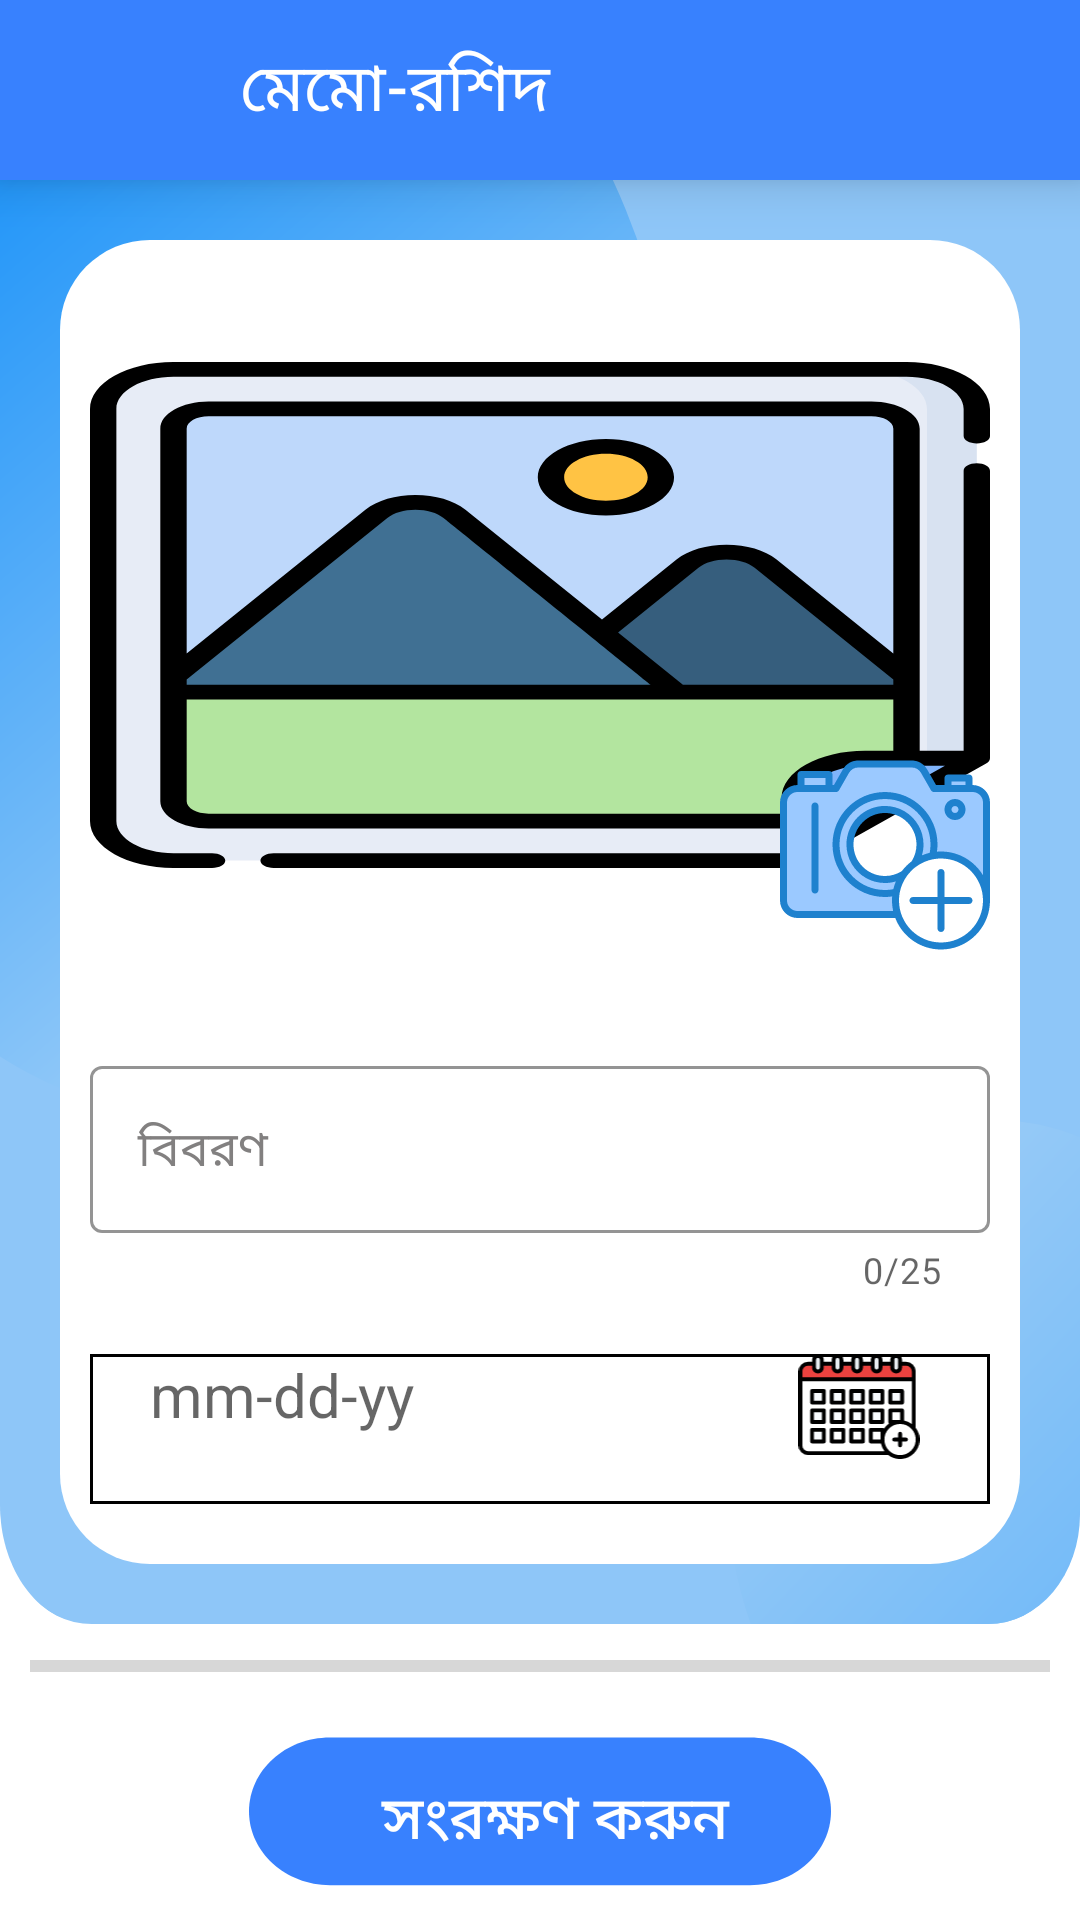

Icon click points for this 1080w x 1920h phone screenshot, format [x,y]:
calender: [859,1406]
camera: [885,850]
